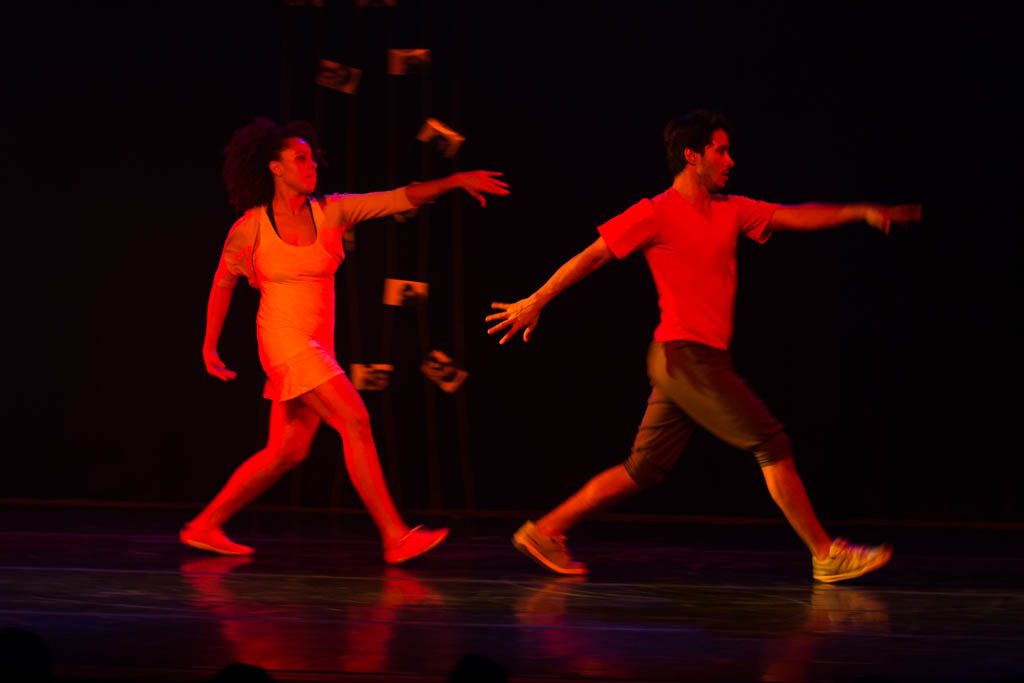Person: (485, 107, 920, 583), (178, 118, 509, 563)
